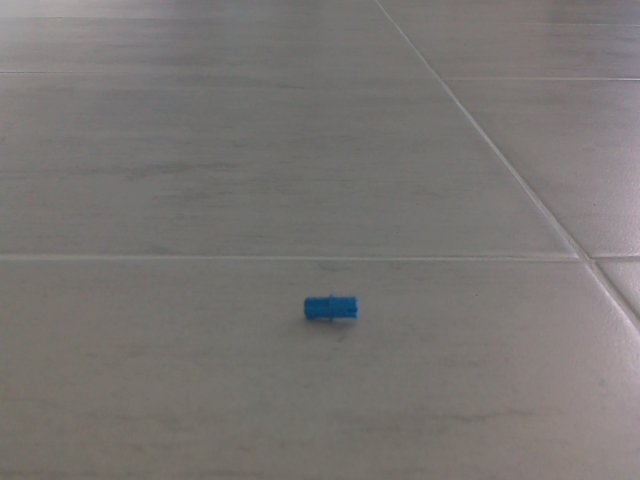Blau: (298, 288, 368, 328)
